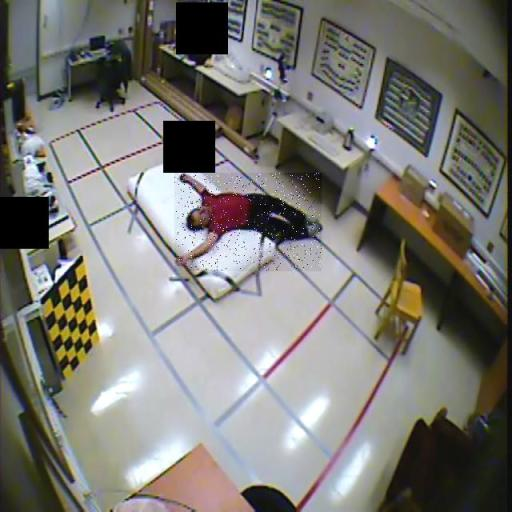Fall: (175, 173, 322, 271)
